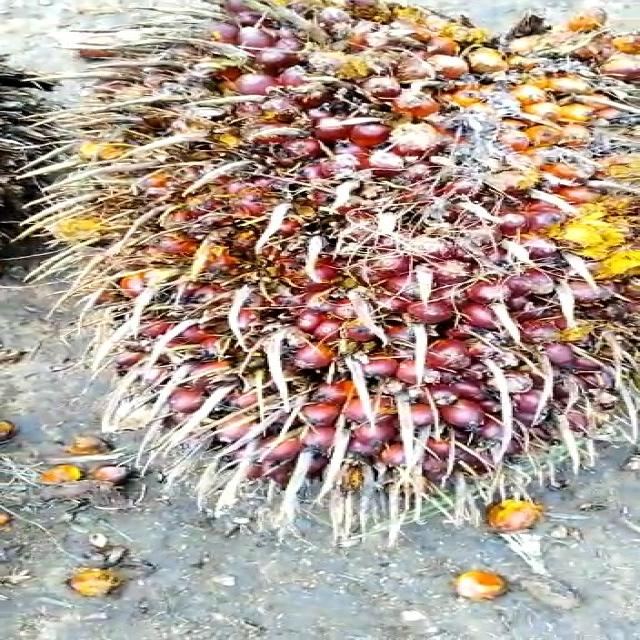palm oil: (66, 0, 640, 530)
